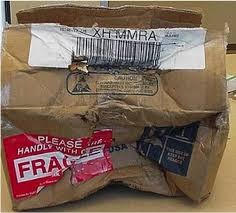damaged package: (0, 100, 227, 212), (19, 52, 184, 109)
